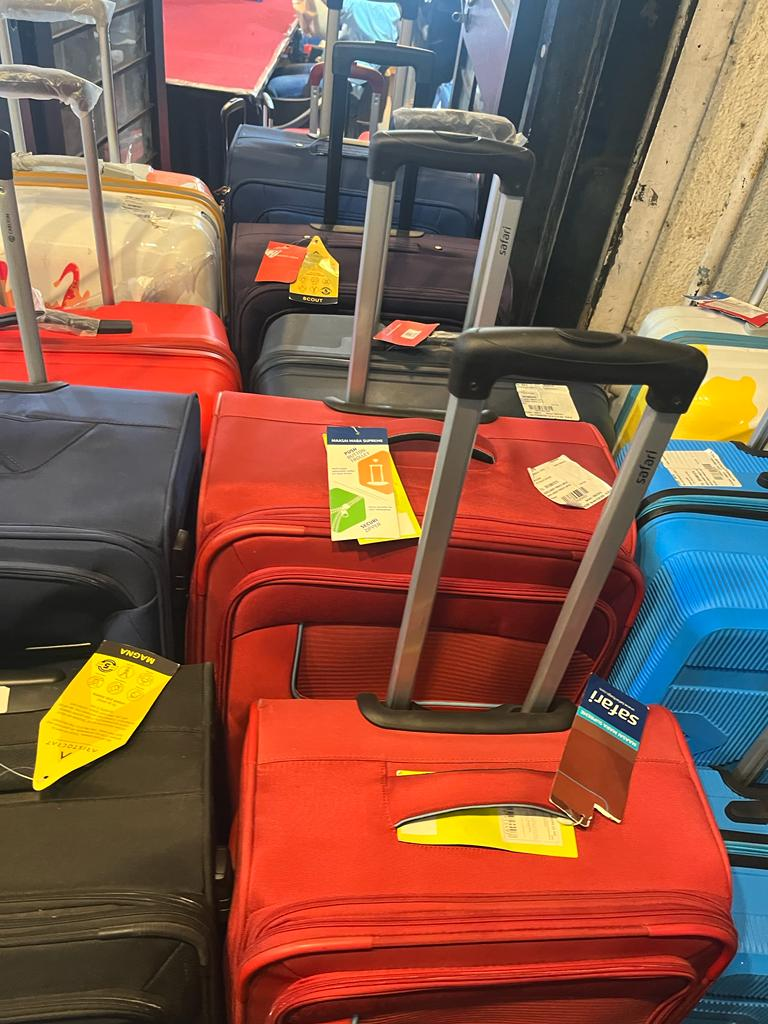Bag: (235, 665, 745, 1024), (0, 8, 231, 683), (205, 391, 640, 729), (0, 668, 224, 1024)
Handle: (377, 293, 712, 724), (331, 121, 543, 410), (0, 5, 141, 406), (306, 21, 444, 243)
